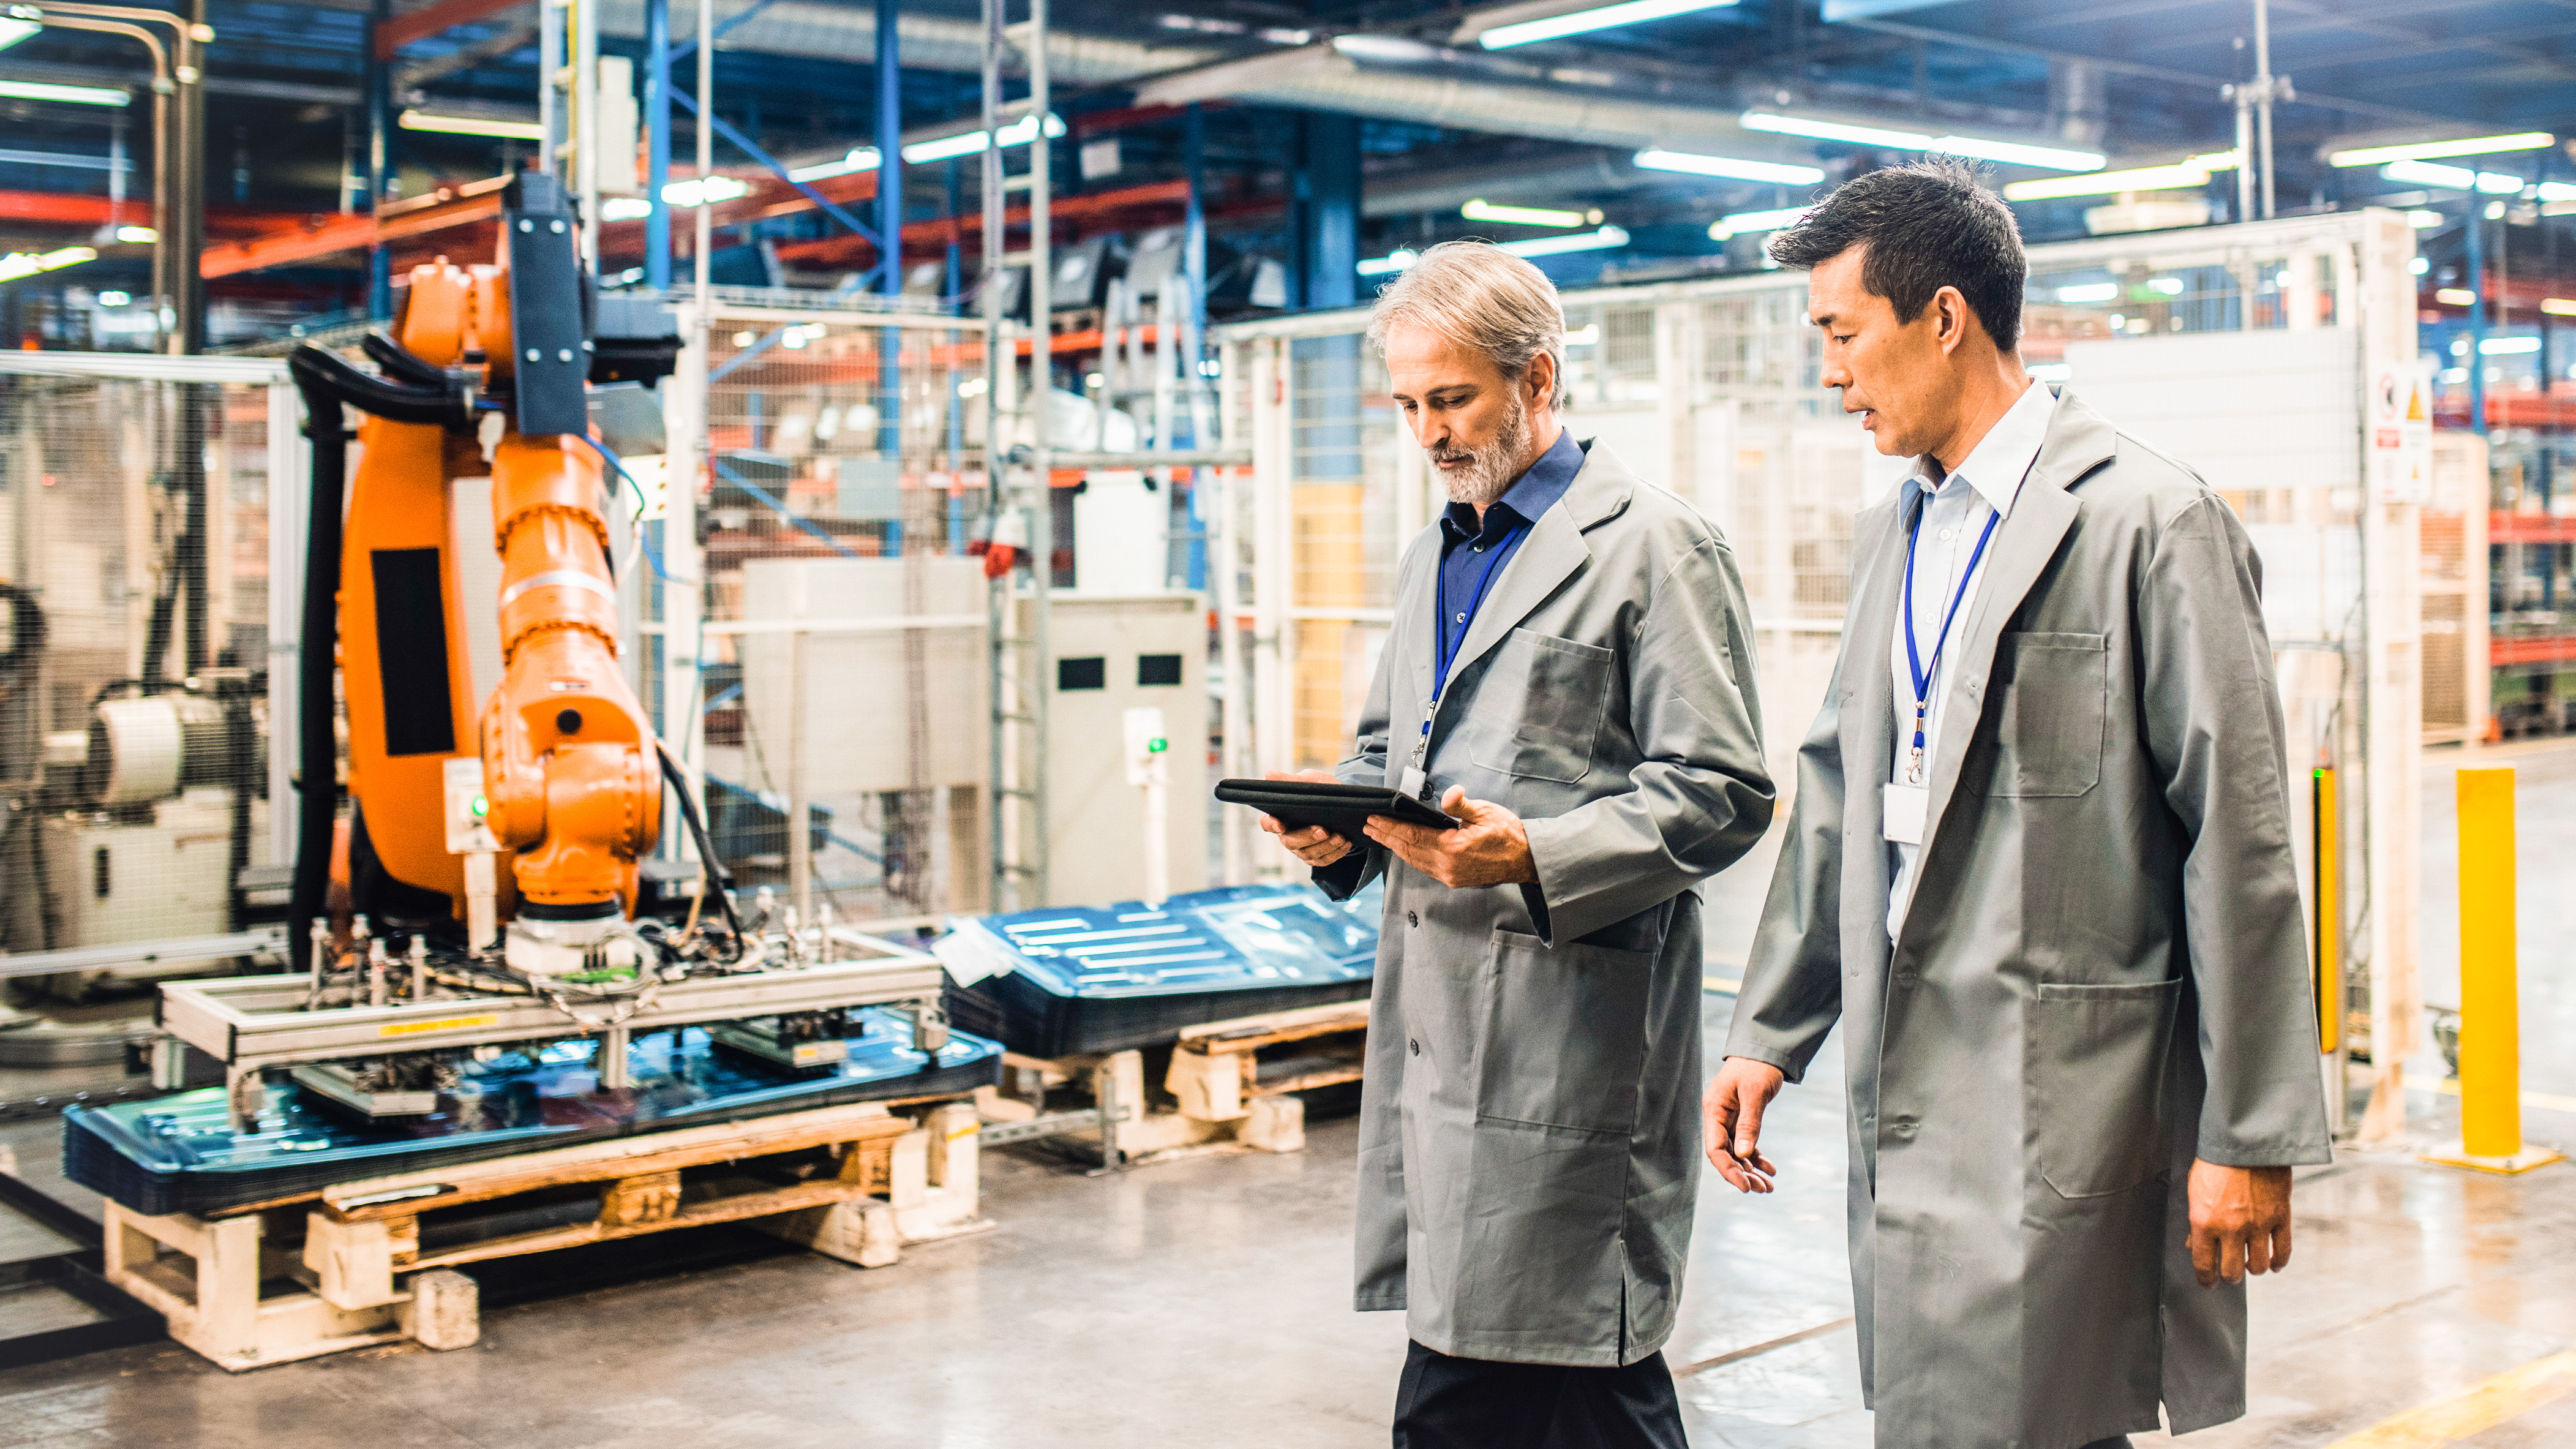person: (1703, 159, 2342, 1449), (1256, 231, 1778, 1449)
robot: (284, 168, 770, 1009)
